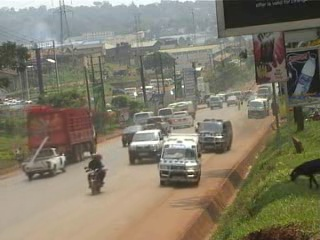Car: (127, 128, 164, 165), (142, 113, 173, 136), (120, 122, 148, 146), (170, 111, 195, 130), (226, 96, 240, 108)
Motorcycle: (81, 162, 106, 195)
